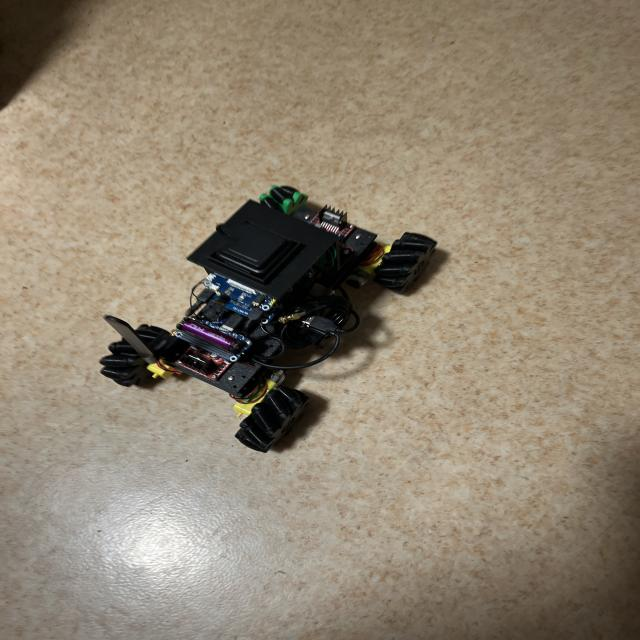robot: (100, 186, 436, 452)
